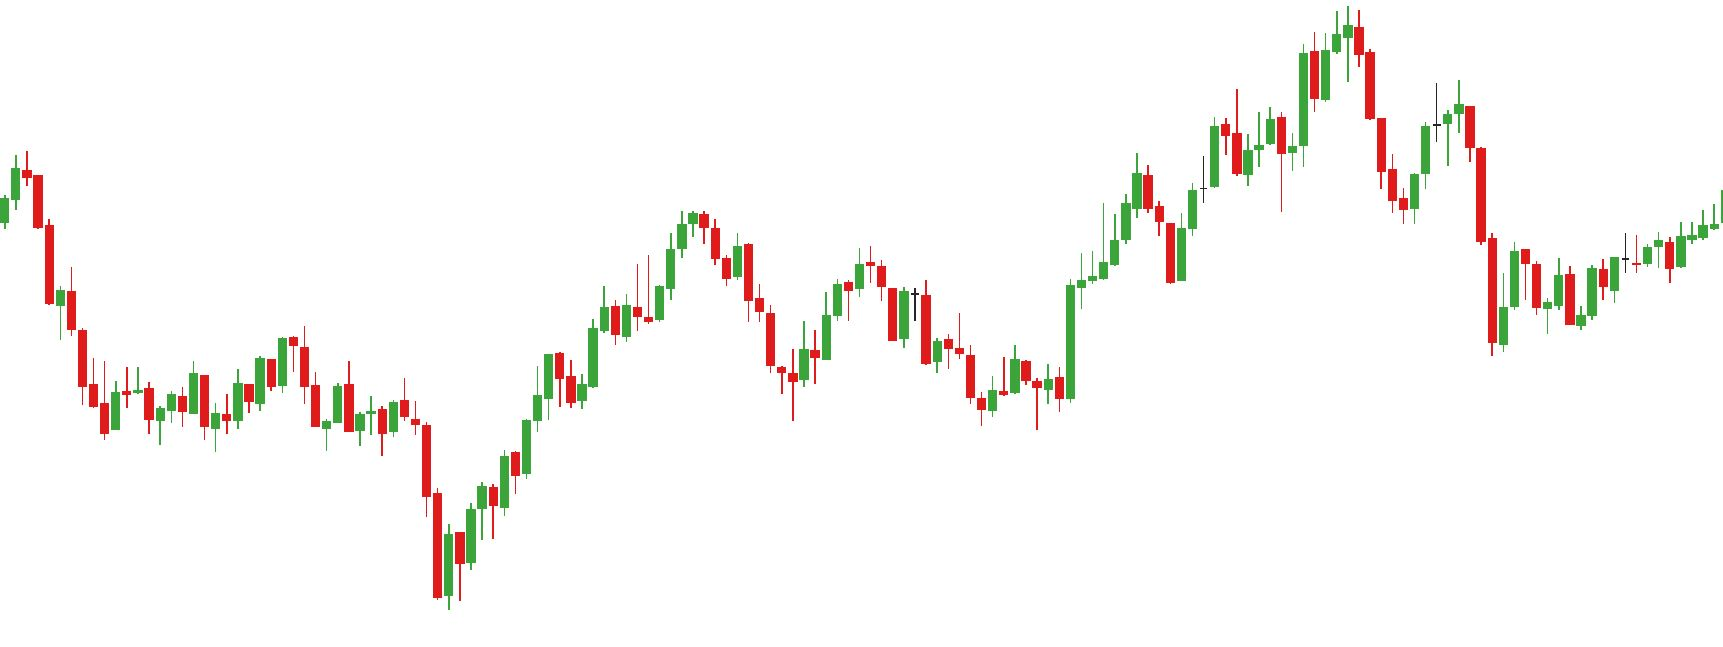buy: (564, 308, 809, 419)
